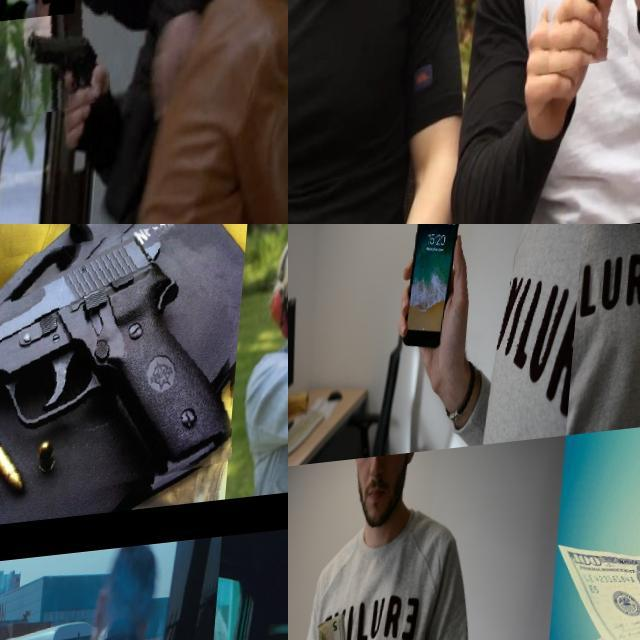-: (530, 0, 640, 172)
gun-knife-thesis - v11 Yolov5 augmented: (0, 224, 245, 520), (24, 0, 121, 120), (0, 0, 88, 66)
